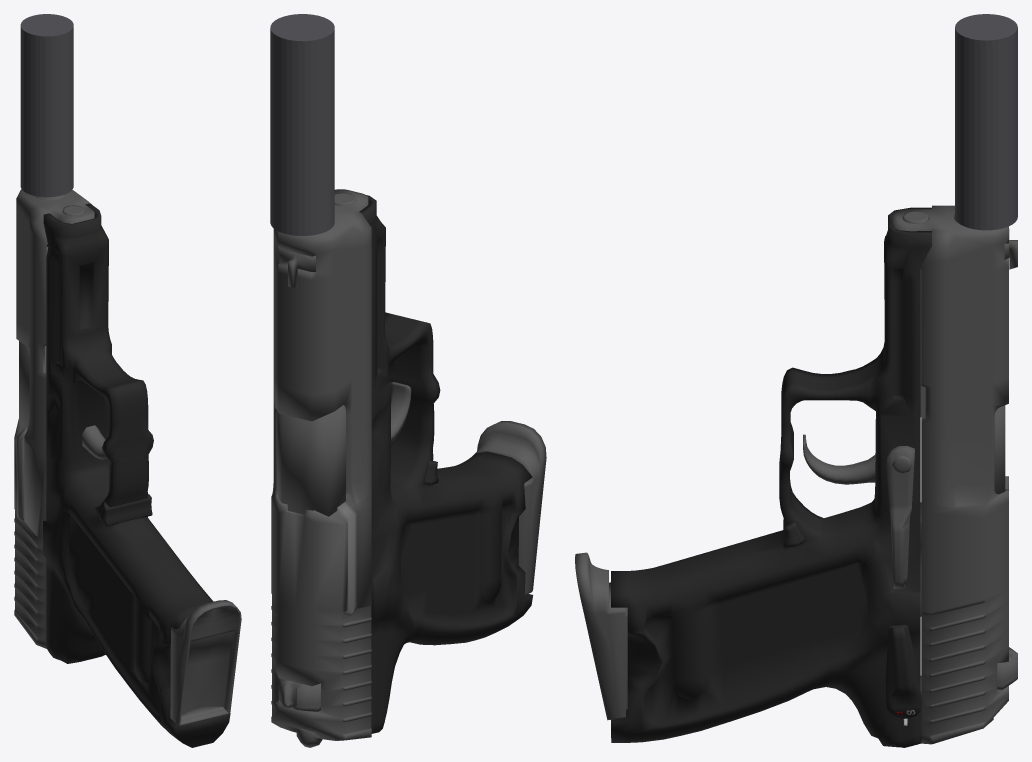
File: usps.glb
3 renders of one model, left to right at view 1: azimuth 30°, elevation 25°; view 2: azimuth 150°, elevation 25°; view 3: azimuth 270°, elevation 25°, orthographic. The views are drawn at different scales.
Visible parts, largest first — view 1: WeaponGrip, Silencer; view 2: WeaponGrip, Silencer; view 3: WeaponGrip, Silencer.
Boxes of the visible parts, x1,y1,x2,y2 form: WeaponGrip: (14, 189, 241, 747); Silencer: (20, 14, 73, 197); WeaponGrip: (271, 189, 546, 747); Silencer: (270, 14, 334, 235); WeaponGrip: (575, 205, 1017, 747); Silencer: (955, 14, 1017, 230).
Bounding box in the file's own units: 0.0354 × 0.3 × 0.1691.
4 materials, 3 textured.
